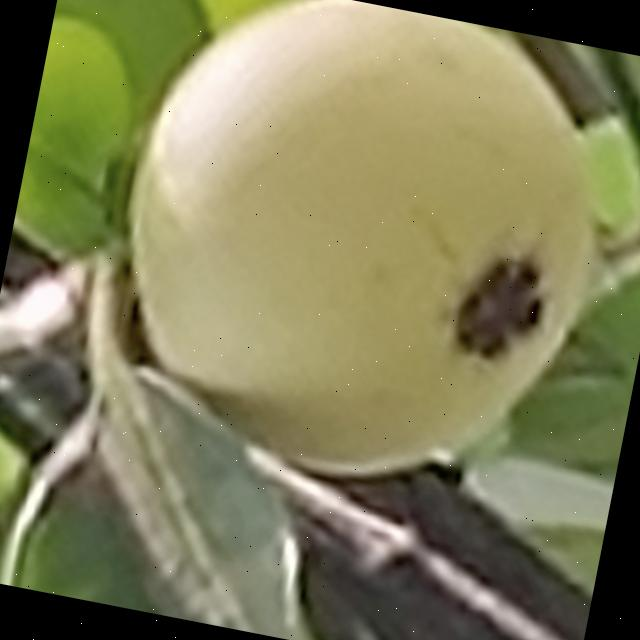mangosteen: (68, 0, 640, 522)
